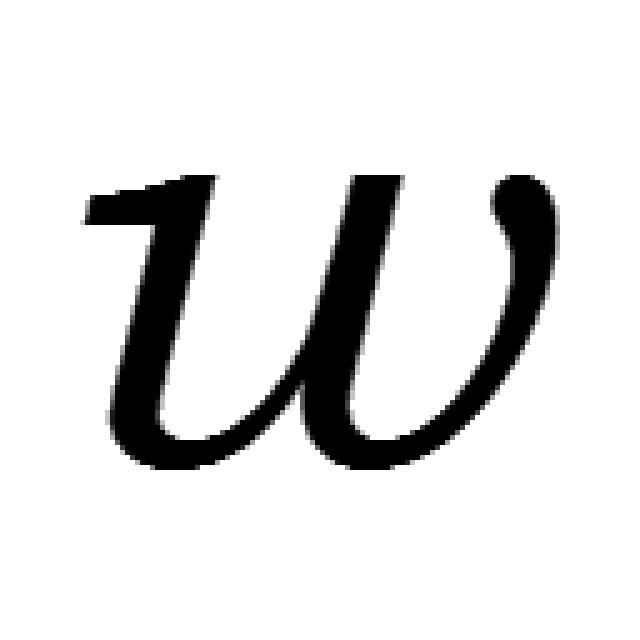W: (102, 179, 576, 473)
